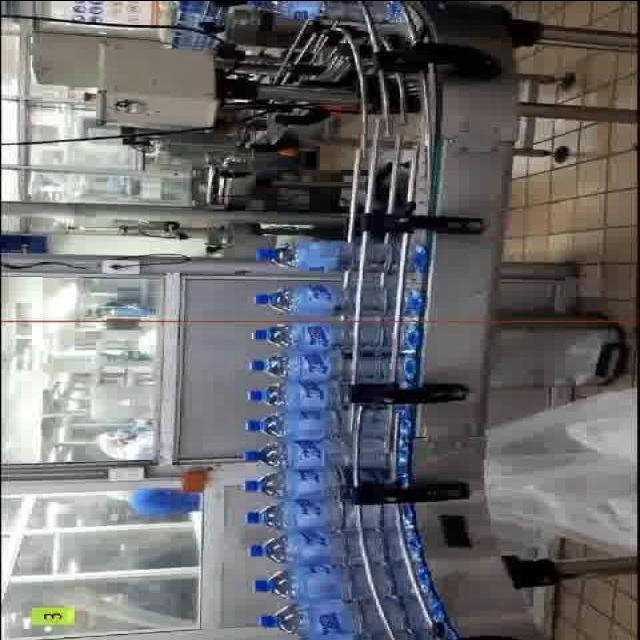bottle: (255, 598, 424, 640), (254, 237, 429, 274), (245, 528, 390, 568), (243, 498, 395, 533), (243, 408, 392, 441), (253, 566, 397, 600), (240, 438, 392, 467), (250, 320, 386, 351), (246, 350, 386, 380), (254, 284, 388, 314), (240, 467, 342, 501), (245, 379, 345, 412)
